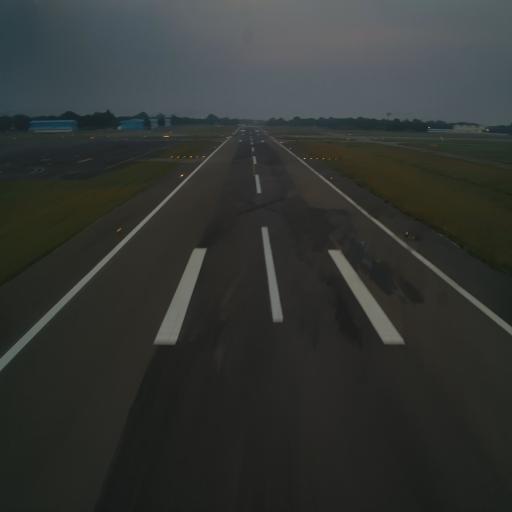on: (116, 224, 123, 236), (404, 229, 410, 239), (180, 172, 184, 179), (330, 174, 334, 180)
